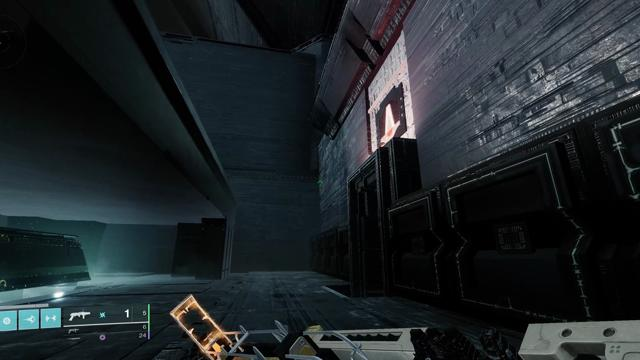enter: (380, 99, 401, 142)
